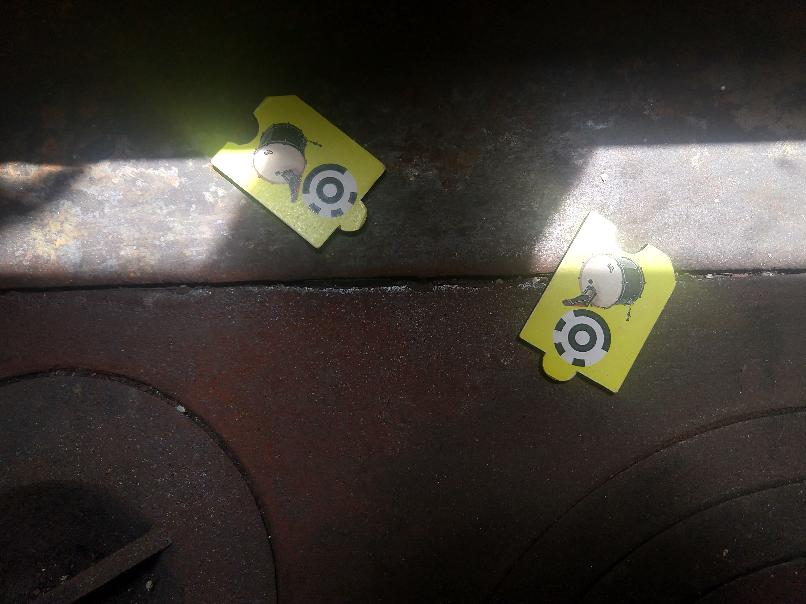bumbo: (515, 207, 677, 395), (202, 90, 387, 249)
